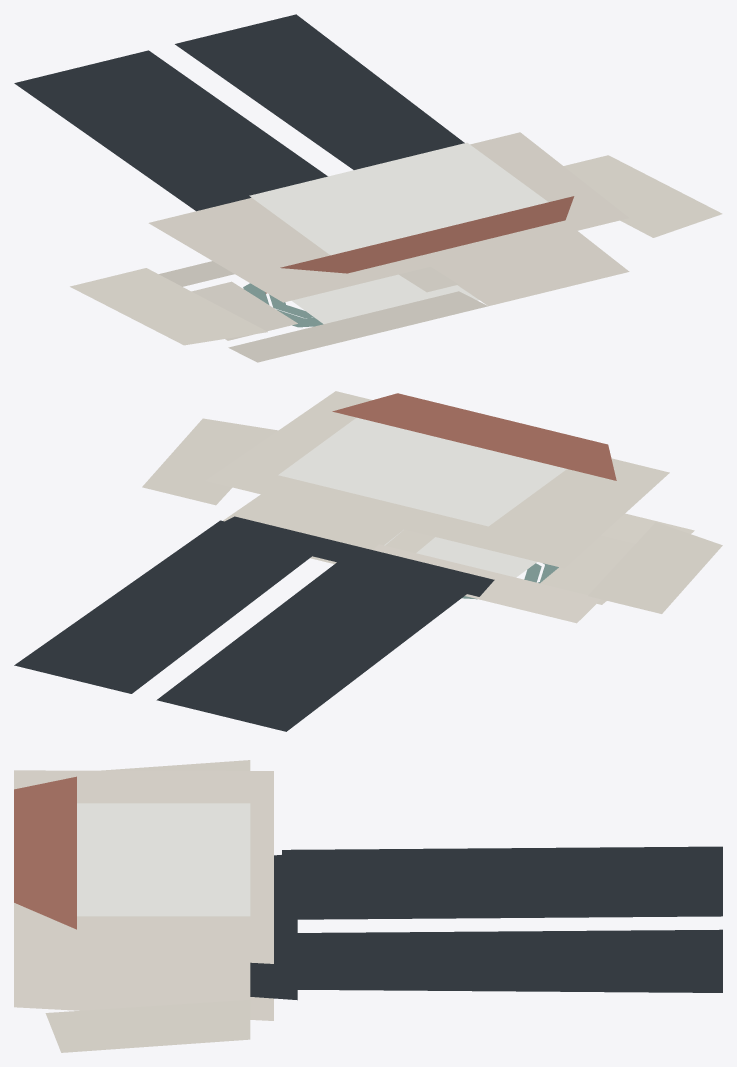
Rendered from structural.obj.
3 views of the same model, one above another, from view 1: azimuth 30°, elevation 25°; view 2: azimuth 150°, elevation 25°; view 3: azimuth 270°, elevation 25° (orthographic). The views are drawn at different scales.
Parts seen in each view (by area): view 1: trouser_L, trouser_R, jacket_back, inner_back, jacket_front_L, jacket_front_R, sleeve_L, back_yoke, sleeve_R, inner_front, orbit_frame_outer; view 2: trouser_L, trouser_R, jacket_back, inner_back, back_yoke, jacket_front_L, sleeve_L, sleeve_R, jacket_front_R, waistband, inner_front; view 3: trouser_L, trouser_R, jacket_back, inner_back, jacket_front_R, back_yoke, sleeve_R, waistband, sleeve_L.
Boxes of the visible parts, box(x1,y1,x2,y2) form: trouser_L: box(14, 50, 327, 211); trouser_R: box(175, 14, 464, 169); jacket_back: box(148, 132, 629, 302); inner_back: box(249, 142, 548, 255); jacket_front_L: box(159, 261, 487, 362); jacket_front_R: box(431, 231, 629, 306); sleeve_L: box(70, 268, 267, 345); back_yoke: box(280, 196, 574, 273); sleeve_R: box(564, 155, 722, 237); inner_front: box(292, 274, 479, 323); orbit_frame_outer: box(243, 283, 323, 327); trouser_L: box(156, 552, 479, 731); trouser_R: box(14, 520, 325, 693); jacket_back: box(205, 391, 669, 568); inner_back: box(278, 417, 566, 526); back_yoke: box(332, 393, 616, 480); jacket_front_L: box(373, 513, 694, 623); sleeve_L: box(588, 522, 722, 613); sleeve_R: box(142, 418, 278, 505); jacket_front_R: box(223, 494, 403, 563); waistband: box(225, 516, 494, 596); inner_front: box(384, 530, 536, 577); trouser_L: box(282, 846, 722, 919); trouser_R: box(282, 929, 722, 992); jacket_back: box(14, 770, 273, 963); inner_back: box(77, 803, 250, 916); jacket_front_R: box(14, 950, 273, 1020); back_yoke: box(14, 776, 76, 929); sleeve_R: box(45, 999, 250, 1052); waistband: box(250, 855, 297, 1000); sleeve_L: box(101, 760, 250, 770).
Bounding box in the file's own units: 0.88 × 0.135 × 0.9.
